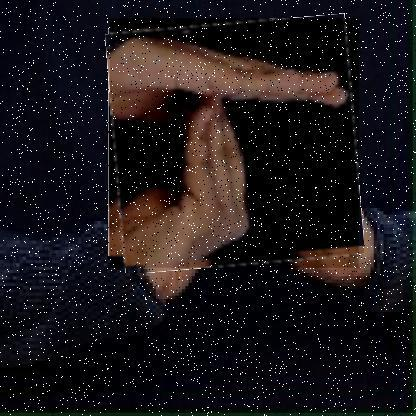Z: (110, 18, 360, 269)
